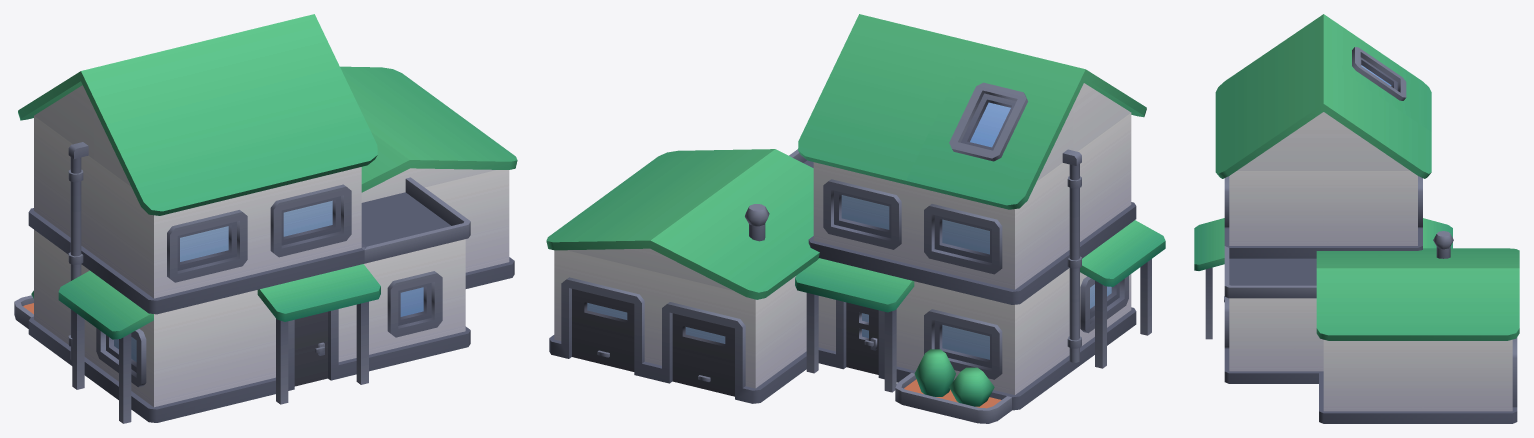
The model's file is house_n.glb.
3 renders of one model, left to right at view 1: azimuth 30°, elevation 25°; view 2: azimuth 150°, elevation 25°; view 3: azimuth 270°, elevation 25°, orthographic. The views are drawn at different scales.
Visible parts, largest first — view 1: building-type-n; view 2: building-type-n; view 3: building-type-n.
Part boxes in pixels (bbox=[...]): building-type-n: bbox=[14, 14, 517, 423]; building-type-n: bbox=[546, 14, 1165, 423]; building-type-n: bbox=[1194, 14, 1519, 423].
Bounding box in the file's own units: 14.27 × 9.1 × 11.02.
Materials: 1 (1 with a texture image).
